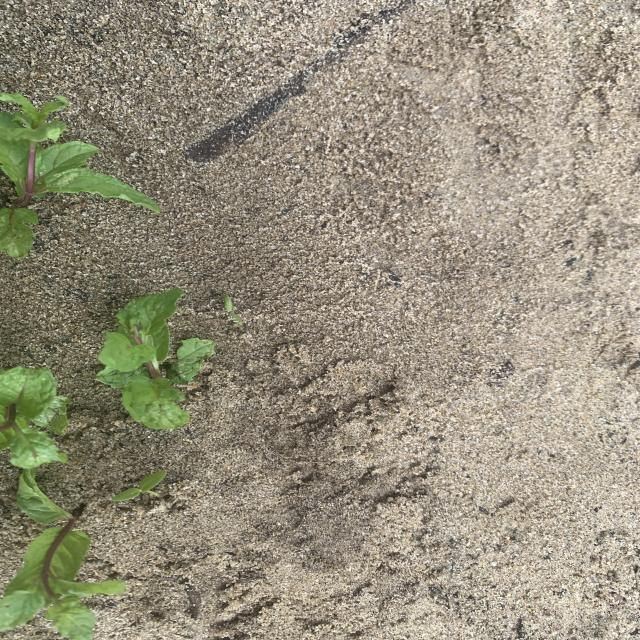crop: (0, 93, 159, 258), (0, 469, 125, 640), (97, 288, 214, 429), (0, 366, 69, 470)
weed: (113, 473, 165, 502), (222, 294, 244, 325)
